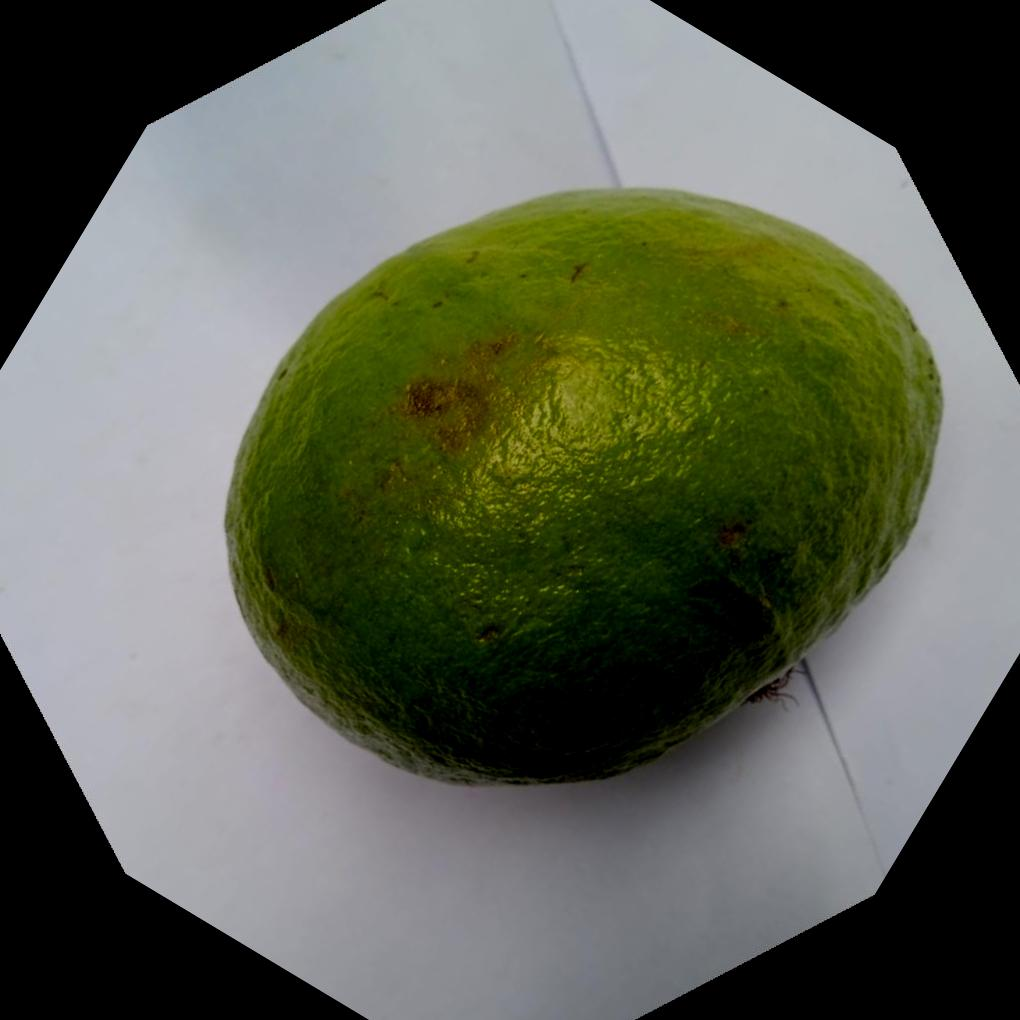FreshGuava: (224, 185, 948, 789)
